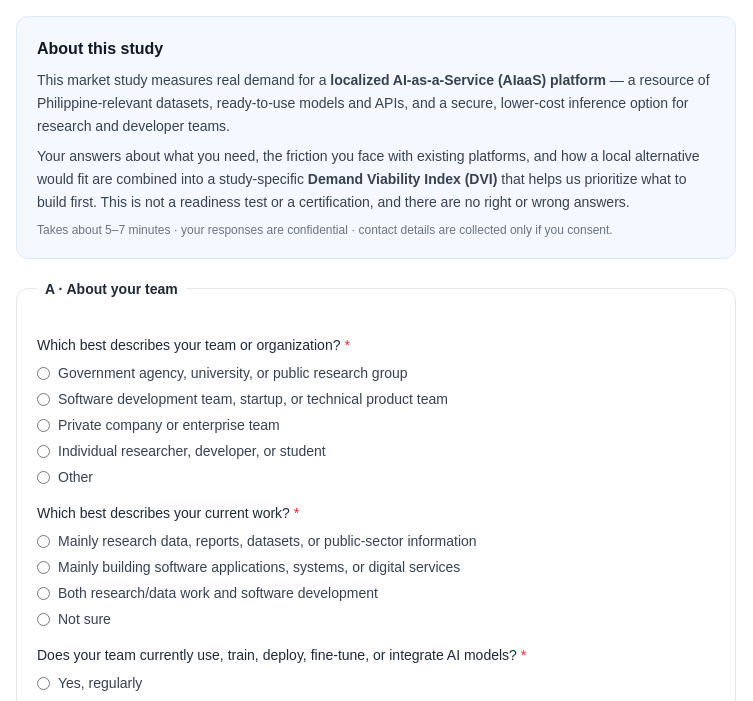
Test case: InterviewForm › reveals the primary-context follow-up only when work type is "both"
The image size is (753, 701).
Expected: the text "PRIMARY context" is not shown
Step 1. Click the text "Both research/data work and software development" → (218, 592), box [58,582,378,602]
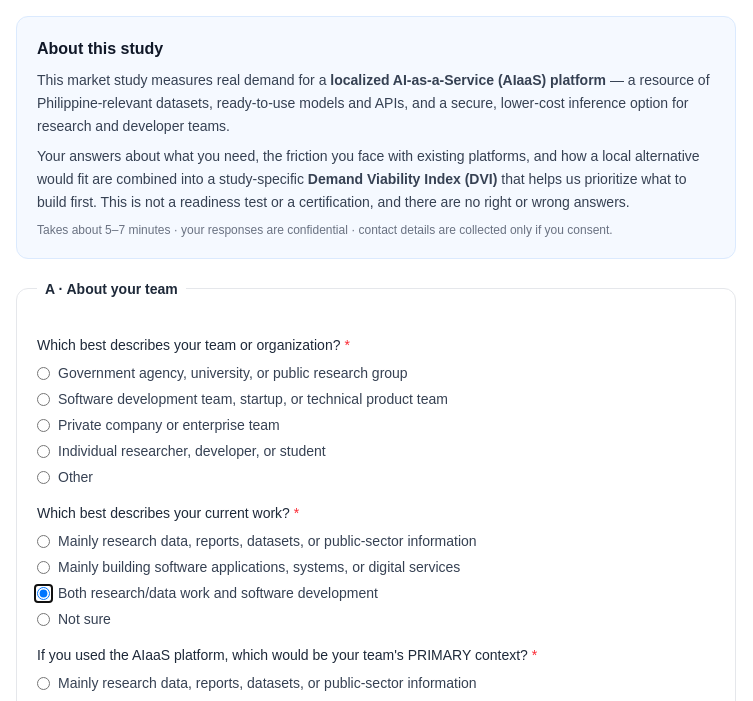
Result: the text "PRIMARY context" is shown at [37,646,528,662]
